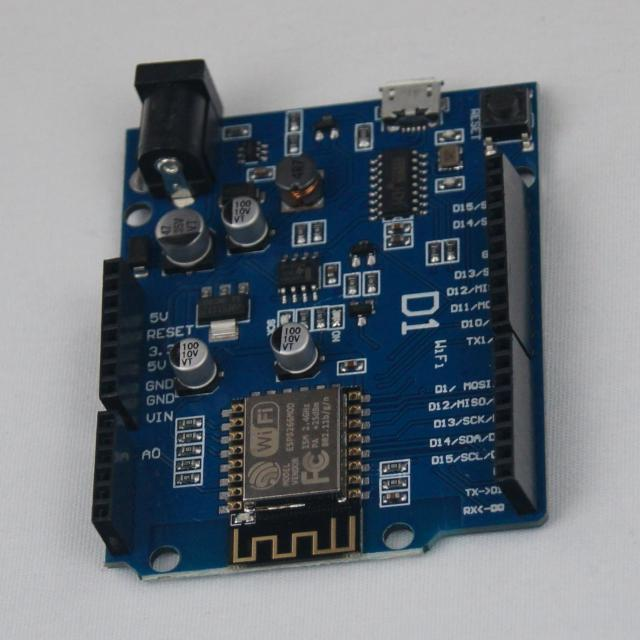Arduino Uno WiFi Shield: (93, 61, 547, 579)
